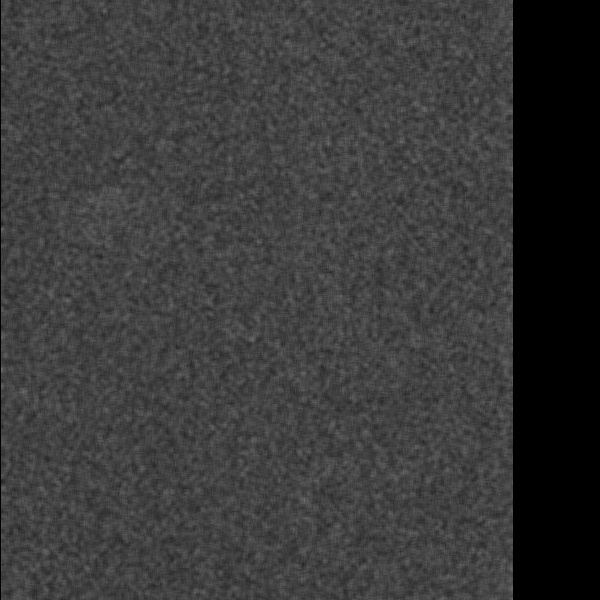spark: (253, 358, 276, 373)
